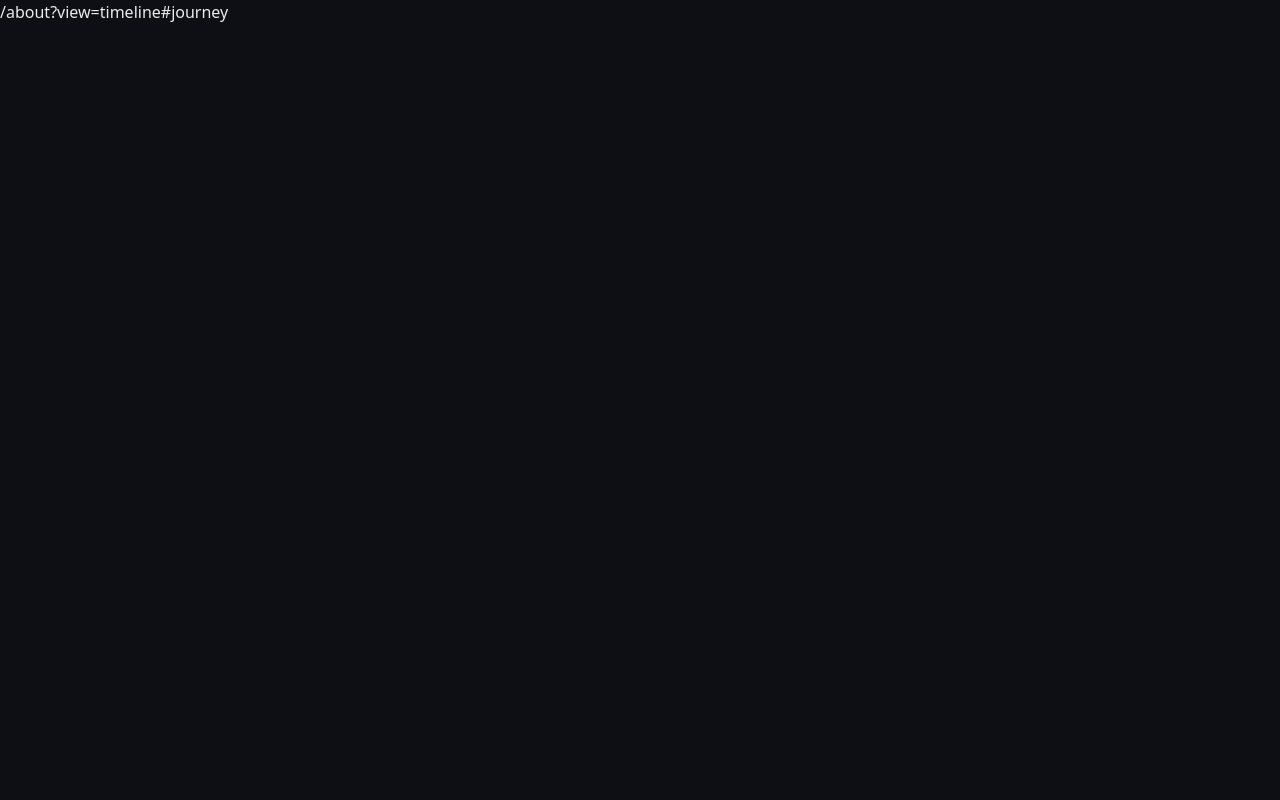
Test: CommandPalette › preserves the anchor when switching locale
Press k
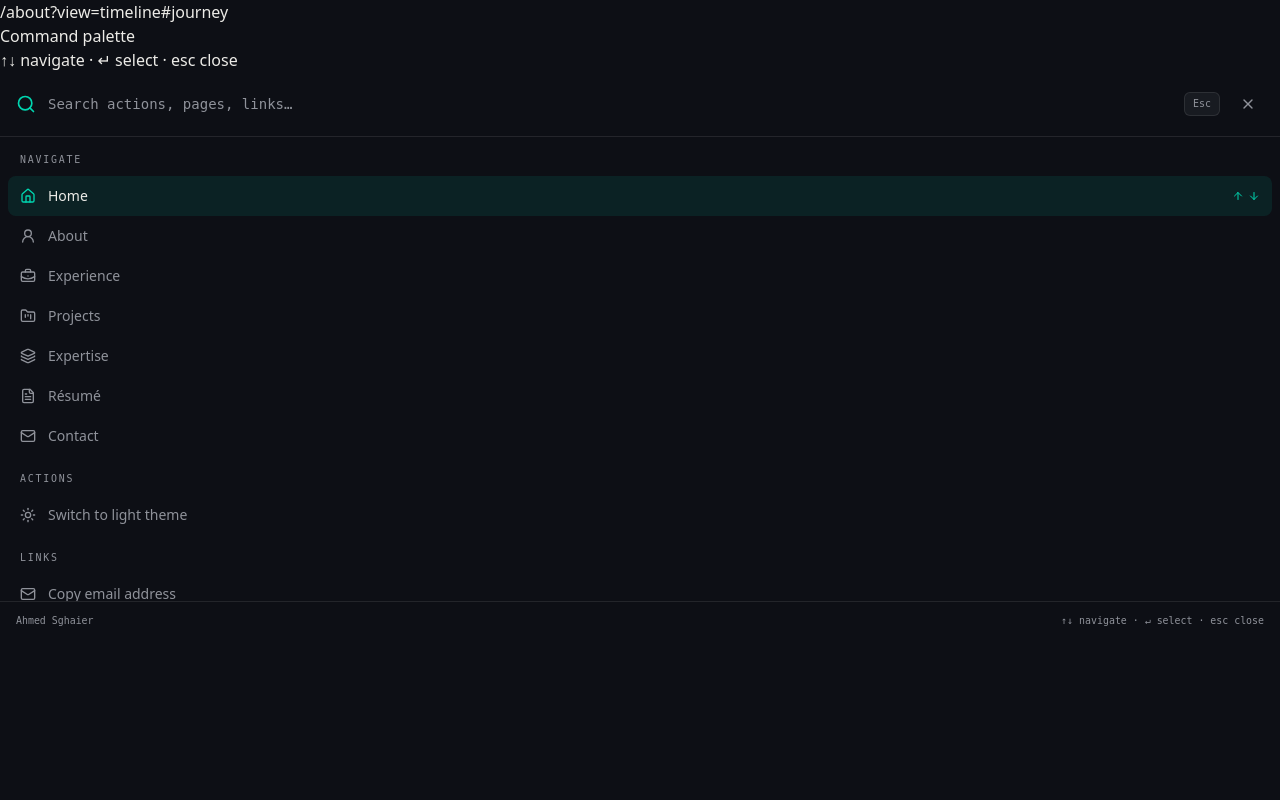
Type "Français" into the dropdown at (610, 104), box left=48, top=94, right=1172, bottom=114
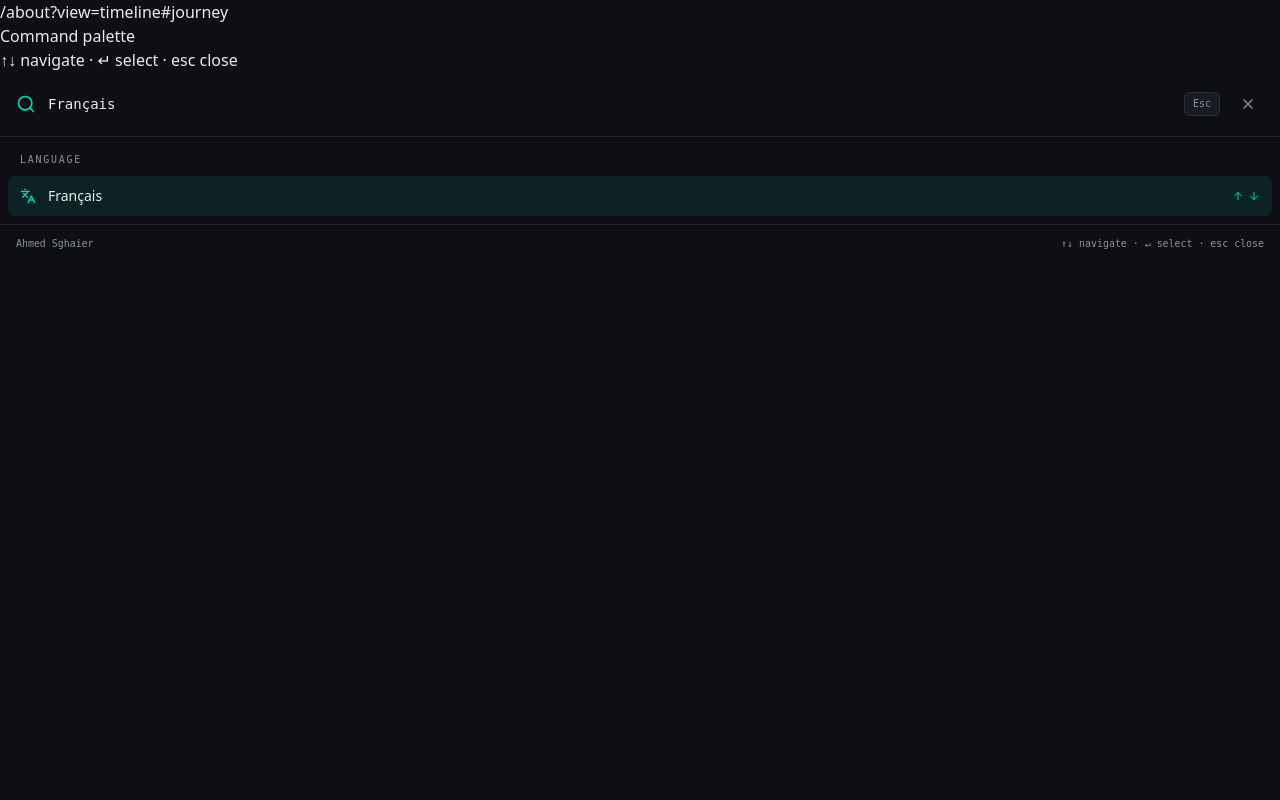
Press Enter in the dropdown, box left=48, top=94, right=1172, bottom=114
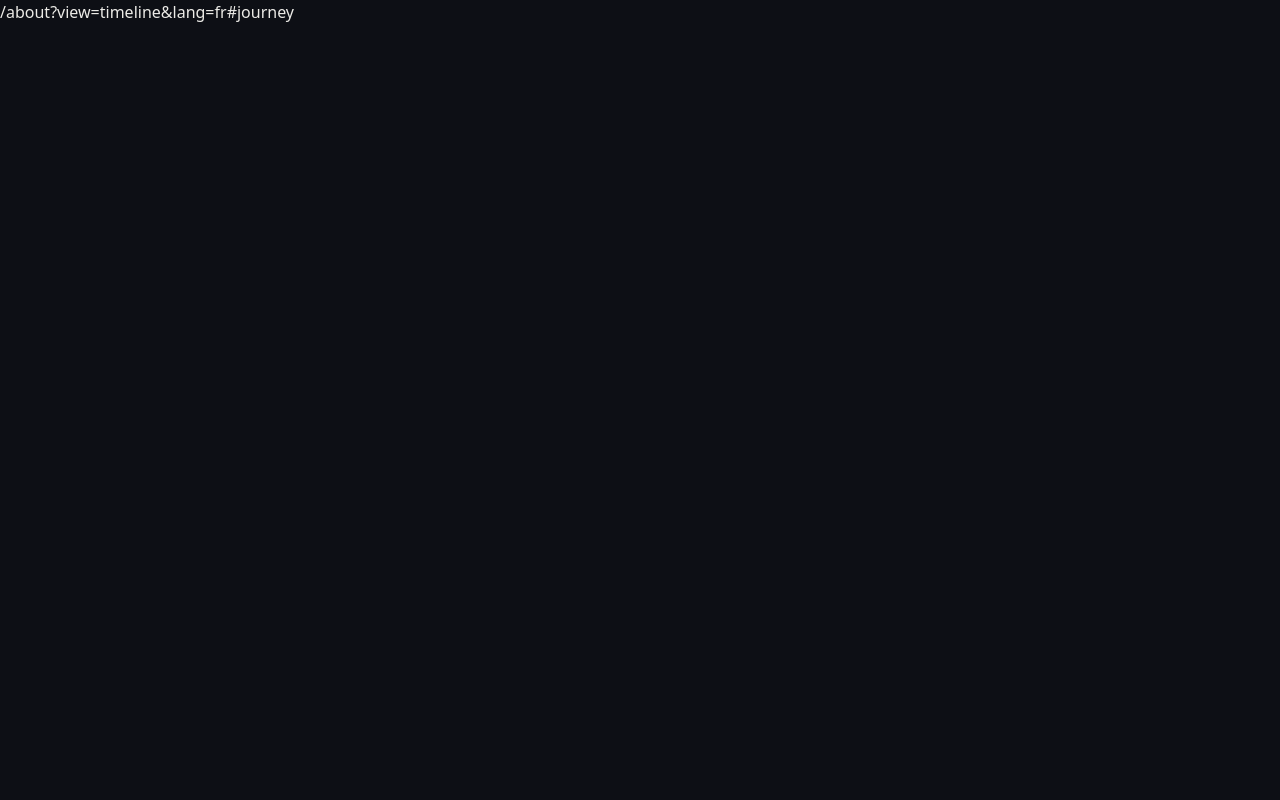
Result: the text named "Current path" reads "/about?view=timeline&lang=fr#journey" at left=0, top=1, right=294, bottom=23
